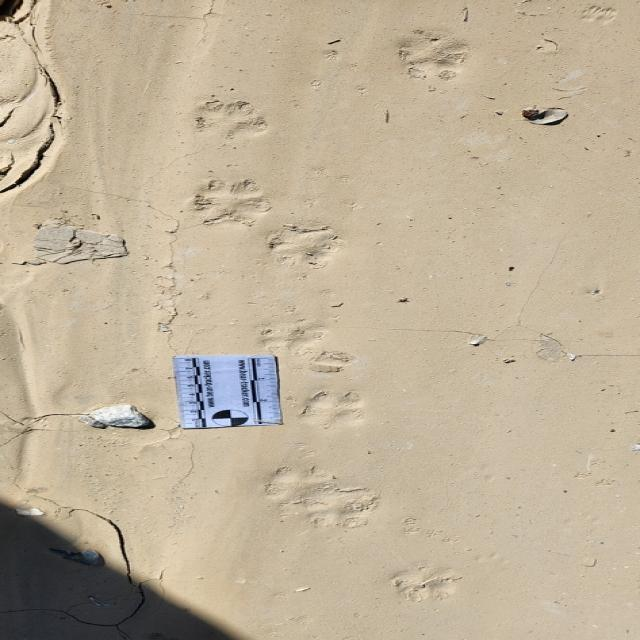canid: (191, 178, 269, 228), (400, 31, 474, 82), (265, 465, 348, 510), (199, 98, 271, 140), (302, 390, 371, 429)
